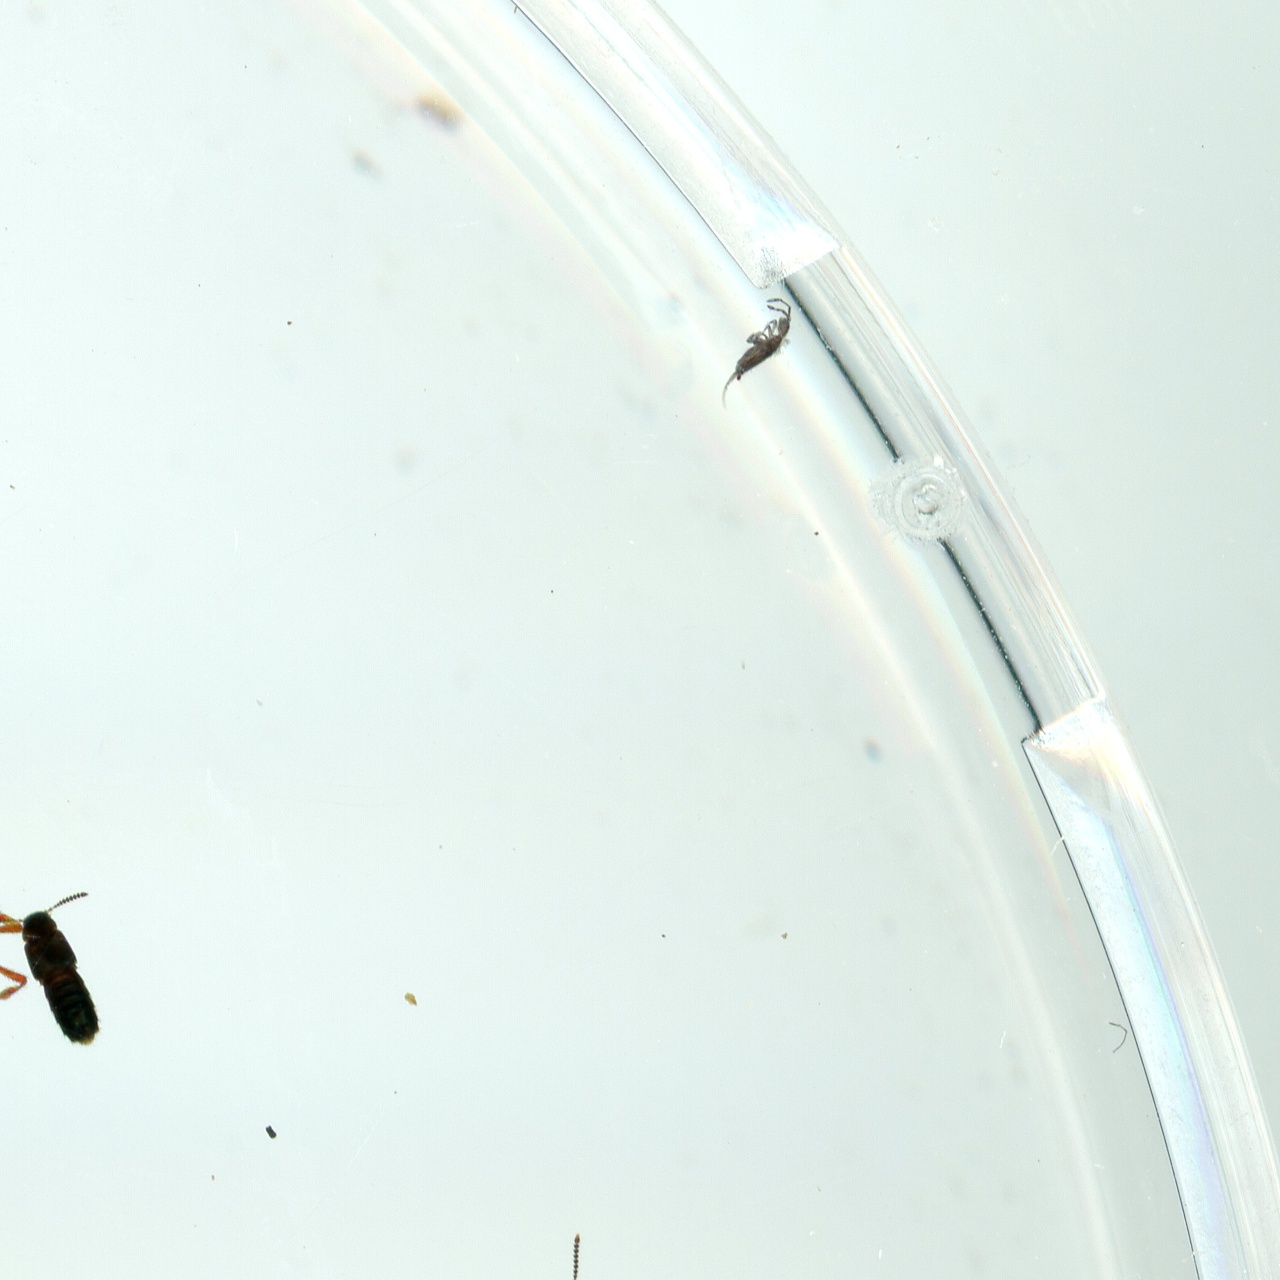arthropod: (0, 876, 141, 1078), (696, 279, 813, 434), (475, 1208, 724, 1280), (0, 799, 52, 1105)
